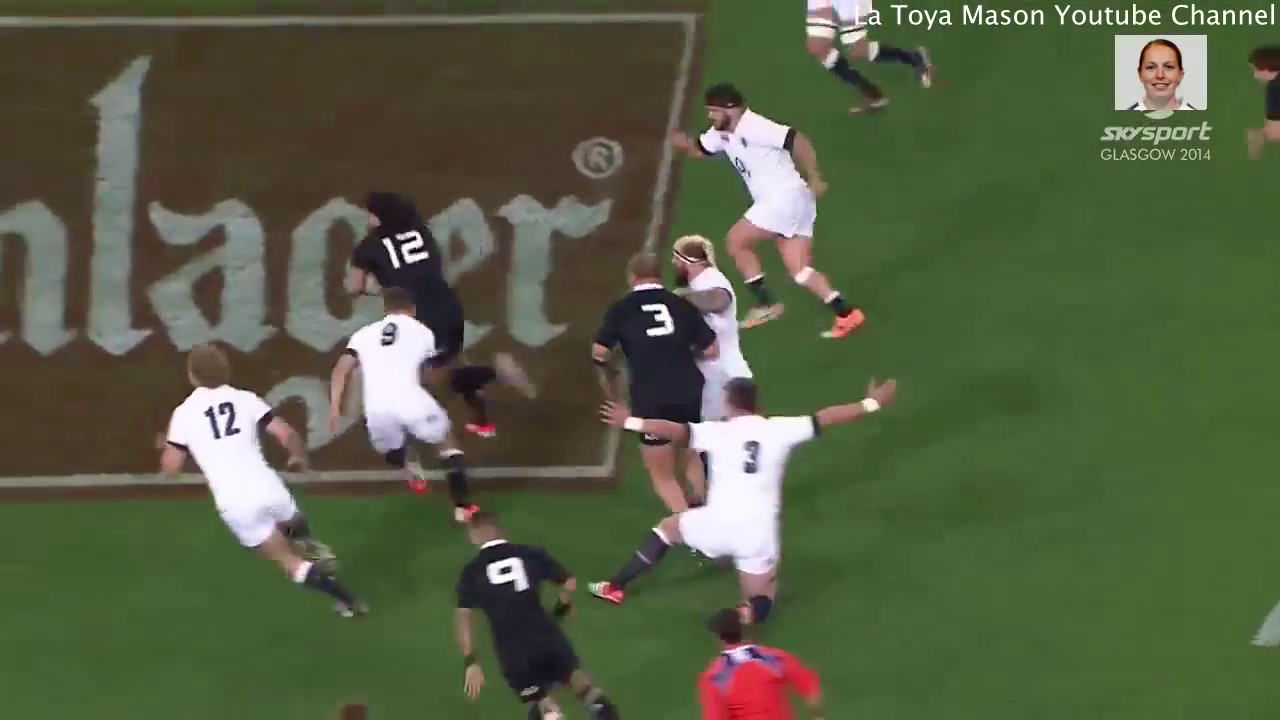player: (582, 371, 914, 611), (149, 342, 373, 624), (653, 76, 869, 338), (441, 506, 622, 720), (325, 286, 483, 527), (589, 250, 705, 507), (342, 187, 477, 371), (683, 601, 827, 720), (664, 236, 764, 402)
